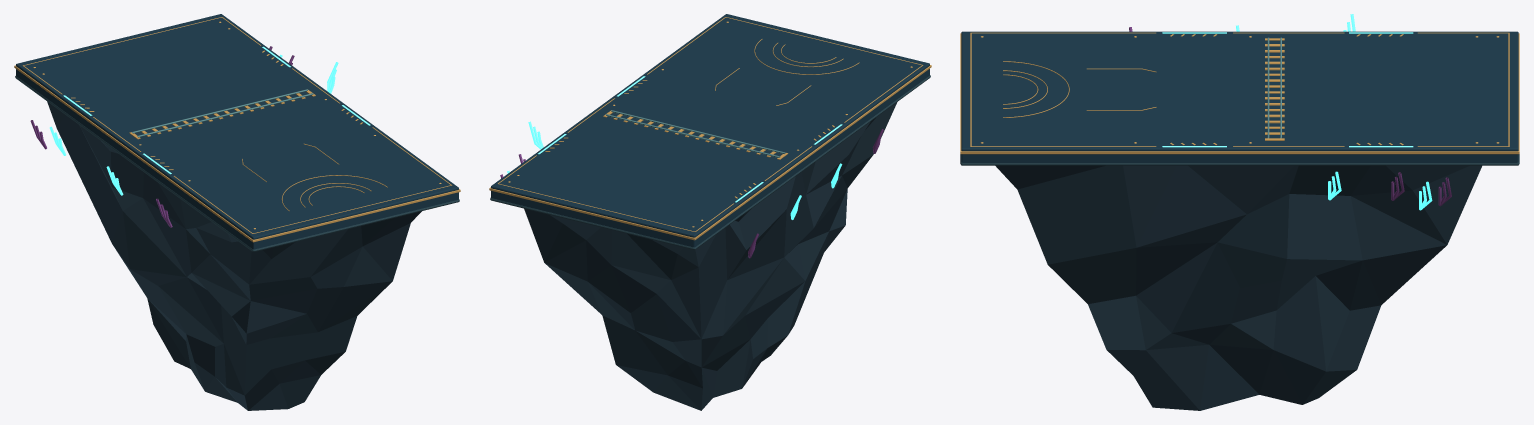
File: deck_refined.glb
3 views of the same model, side by side, from view 1: azimuth 30°, elevation 25°; view 2: azimuth 150°, elevation 25°; view 3: azimuth 270°, elevation 25° (orthographic). The views are drawn at different scales.
Visible parts, largest first — view 1: deck_refined; view 2: deck_refined; view 3: deck_refined.
Boxes of the visible parts, x1,y1,x2,y2 form: deck_refined: [14, 14, 460, 410]; deck_refined: [489, 14, 931, 410]; deck_refined: [960, 14, 1519, 410].
Size of the model in its own units: 10.95 by 9.76 by 16.06.
